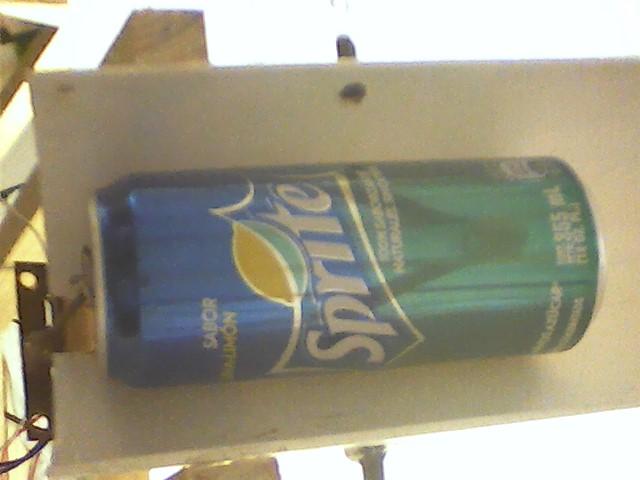lata: (79, 147, 612, 399)
